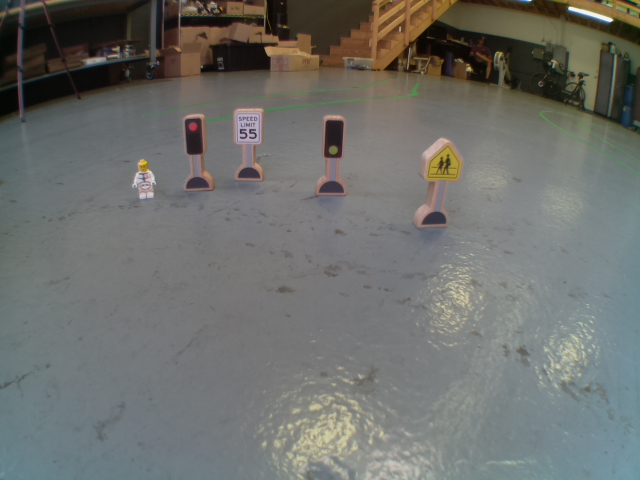Green Traffic Light: (320, 114, 347, 161)
Red Traffic Light: (180, 114, 209, 160)
Speed Limit 55: (230, 109, 266, 146)
YIELD: (421, 136, 464, 183)
person: (125, 158, 159, 200)
